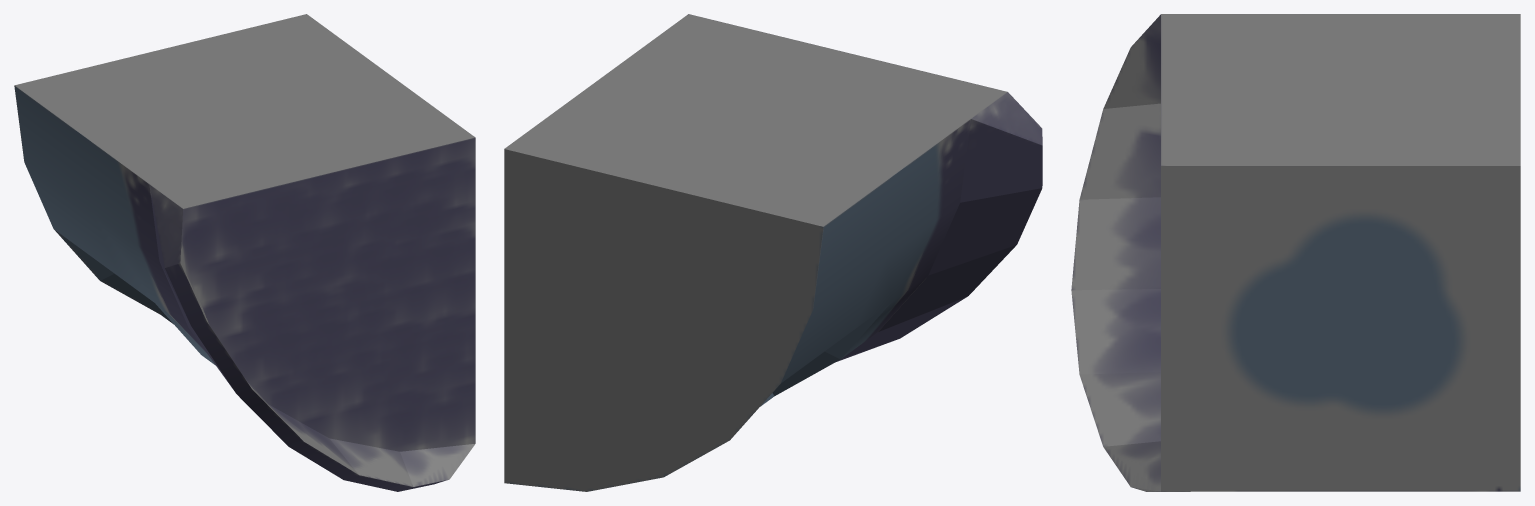
File: wall2.obj
3 views of the same model, side by side, from view 1: azimuth 30°, elevation 25°; view 2: azimuth 150°, elevation 25°; view 3: azimuth 270°, elevation 25° (orthographic). The views are drawn at different scales.
Visible parts, largest first — view 1: Cylinder006; view 2: Cylinder006; view 3: Cylinder006.
Part boxes in pixels (<box>): Cylinder006: <box>14,14,475,491</box>; Cylinder006: <box>504,14,1042,491</box>; Cylinder006: <box>1071,14,1520,491</box>.
Size of the model in its own units: 43.44 by 43.12 by 49.99.
1 material, 1 textured.
